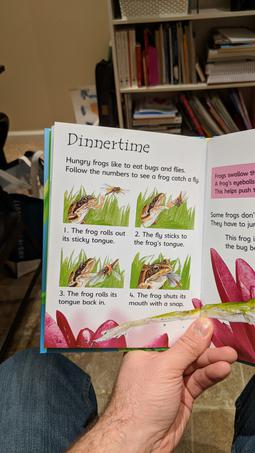text block: (61, 151, 204, 186), (61, 127, 152, 156), (203, 205, 255, 252), (57, 222, 129, 248), (125, 285, 190, 312), (56, 285, 118, 312), (209, 166, 255, 202), (124, 225, 190, 248)
